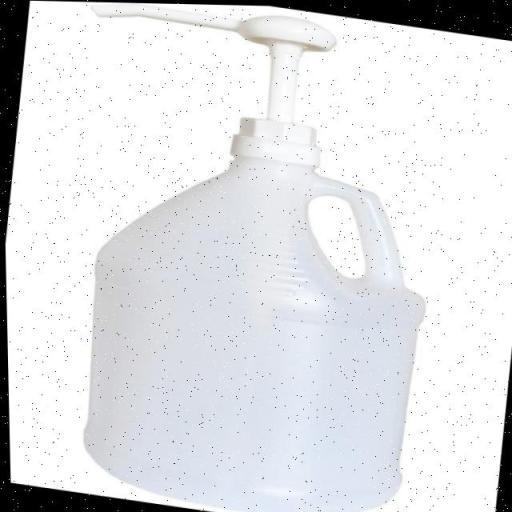plastic: (24, 1, 467, 512)
